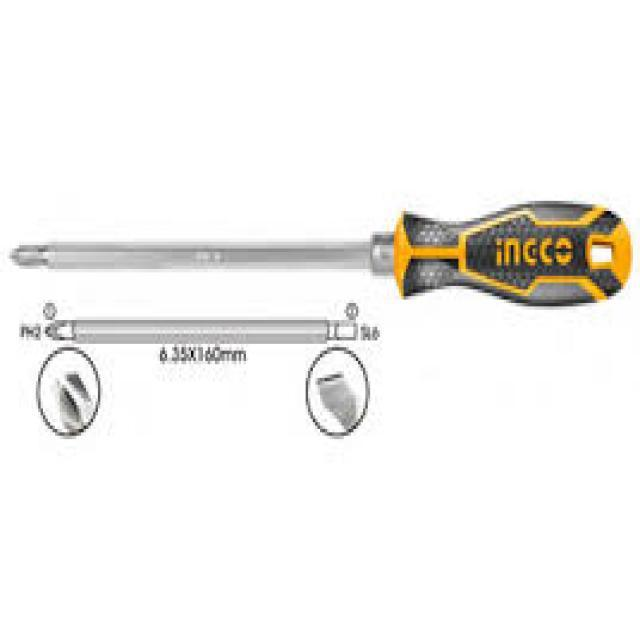screwdriver: (2, 192, 638, 312)
